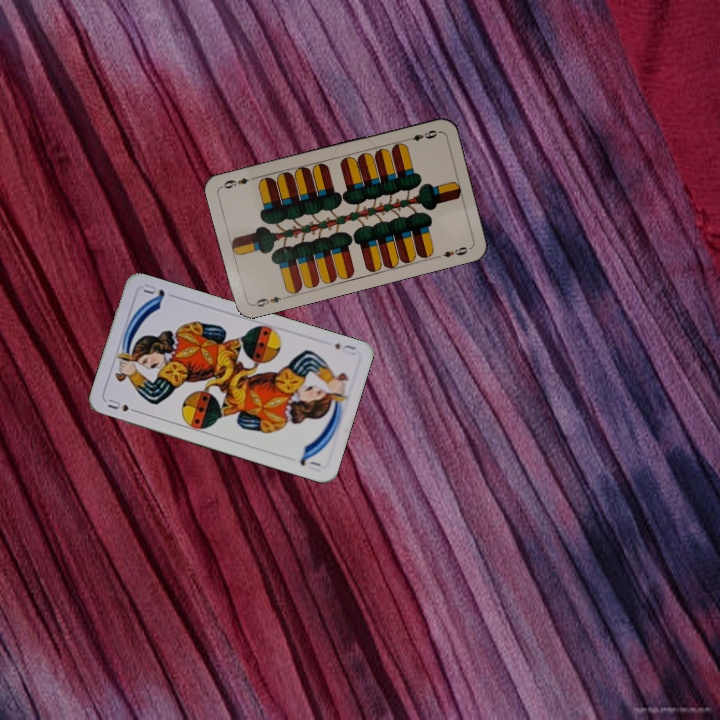E9: (249, 292, 289, 310), (401, 126, 440, 144)
SU: (103, 395, 142, 415), (331, 339, 359, 358)
